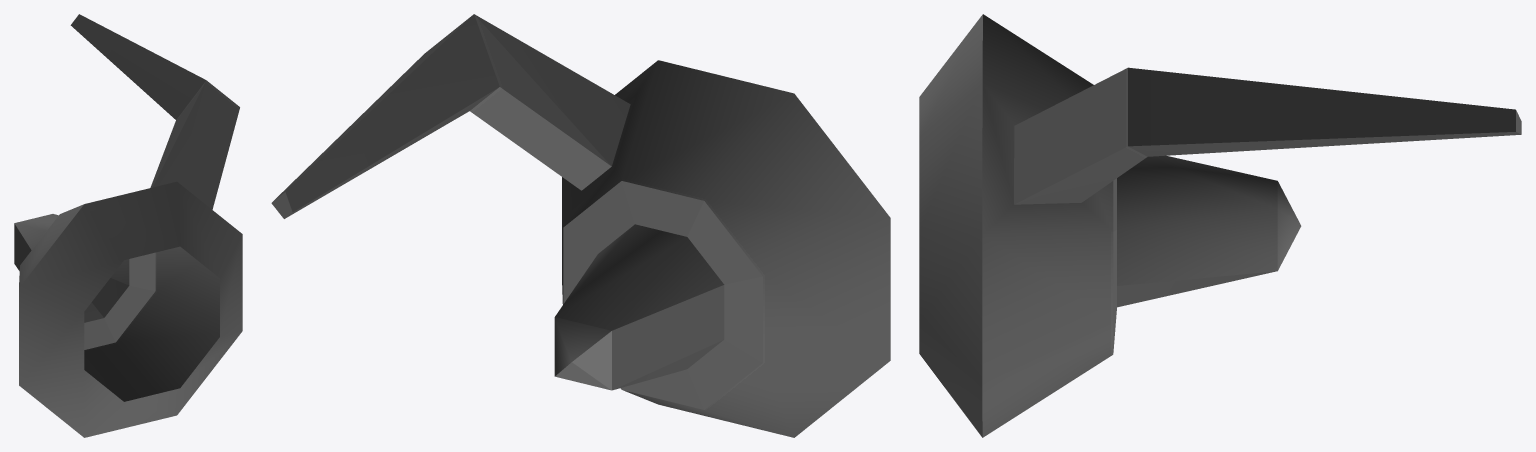
Rendered from stat_bottom5.glb.
3 views of the same model, side by side, from view 1: azimuth 30°, elevation 25°; view 2: azimuth 150°, elevation 25°; view 3: azimuth 270°, elevation 25° (orthographic). The views are drawn at different scales.
Visible parts, largest first — view 1: group_19; view 2: group_19; view 3: group_19.
Boxes of the visible parts, x1=… form: group_19: x1=14, y1=14, x2=242, y2=437; group_19: x1=271, y1=14, x2=890, y2=437; group_19: x1=919, y1=14, x2=1521, y2=437.
Size of the model in its own units: 15032 by 15026 by 19180.
2 materials, 2 textured.
